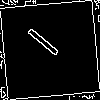I: (25, 25, 69, 65)
